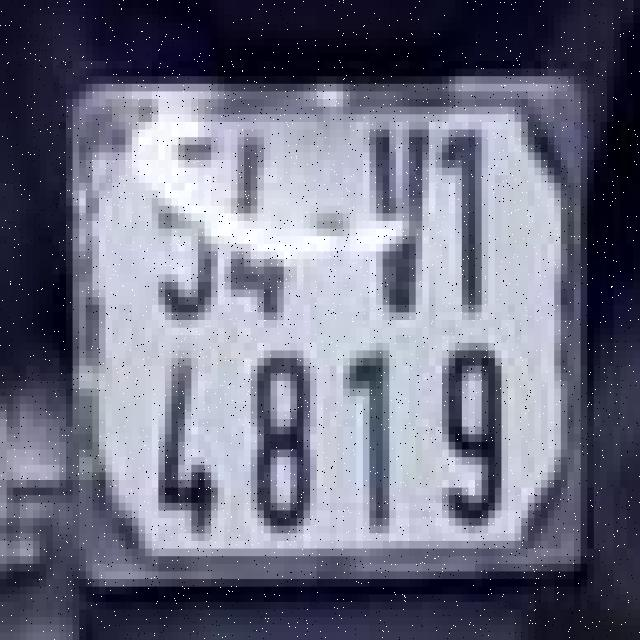1: (340, 346, 406, 544), (439, 118, 498, 324)
4: (142, 339, 228, 545), (228, 110, 287, 332)
5: (138, 118, 224, 332)
8: (244, 335, 317, 549)
9: (426, 328, 504, 548)
V: (366, 110, 432, 332)
